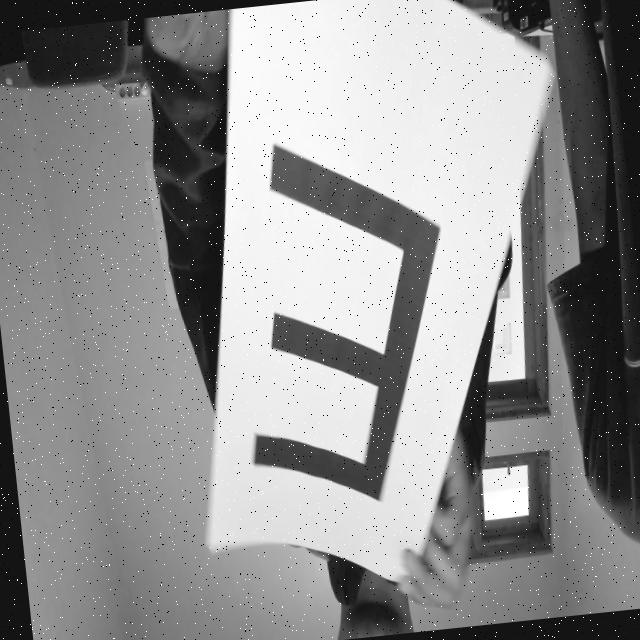e: (210, 82, 483, 540)
